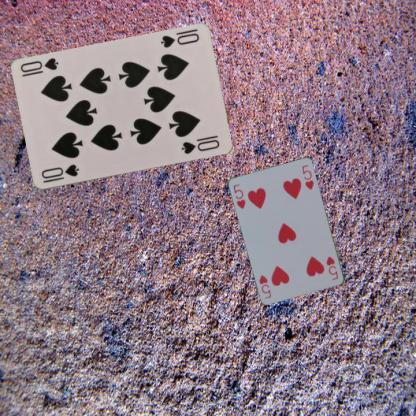10s: (38, 162, 80, 184), (158, 30, 200, 50)
5h: (230, 182, 247, 210), (324, 254, 340, 281)
